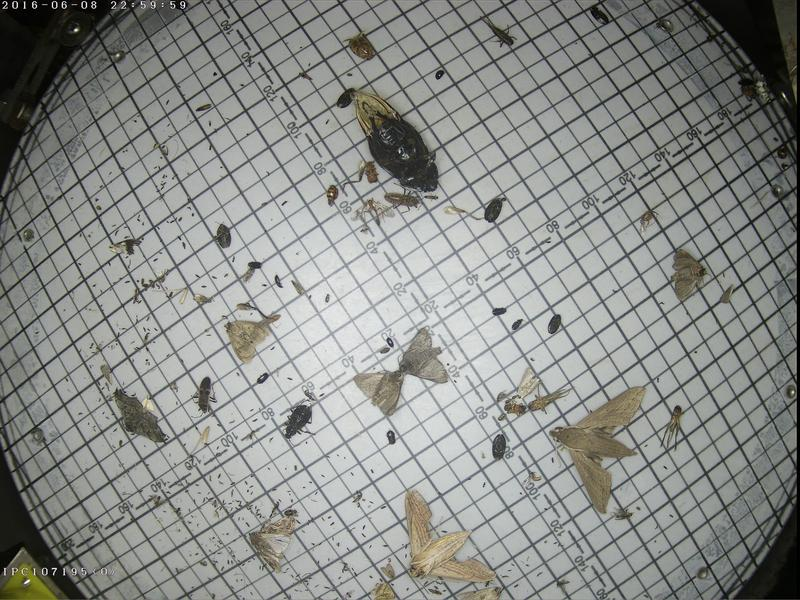Spodoptera exigua: (512, 366, 540, 395)
Spodoptera litura: (245, 513, 295, 570)
